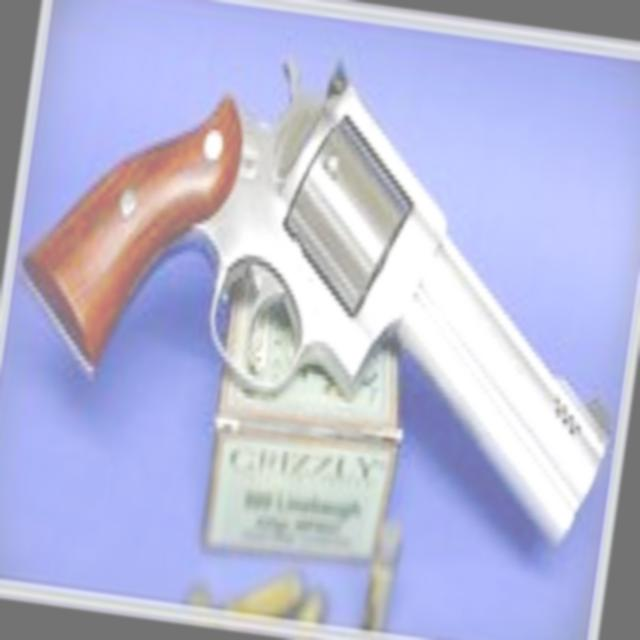revolver: (0, 2, 640, 572)
